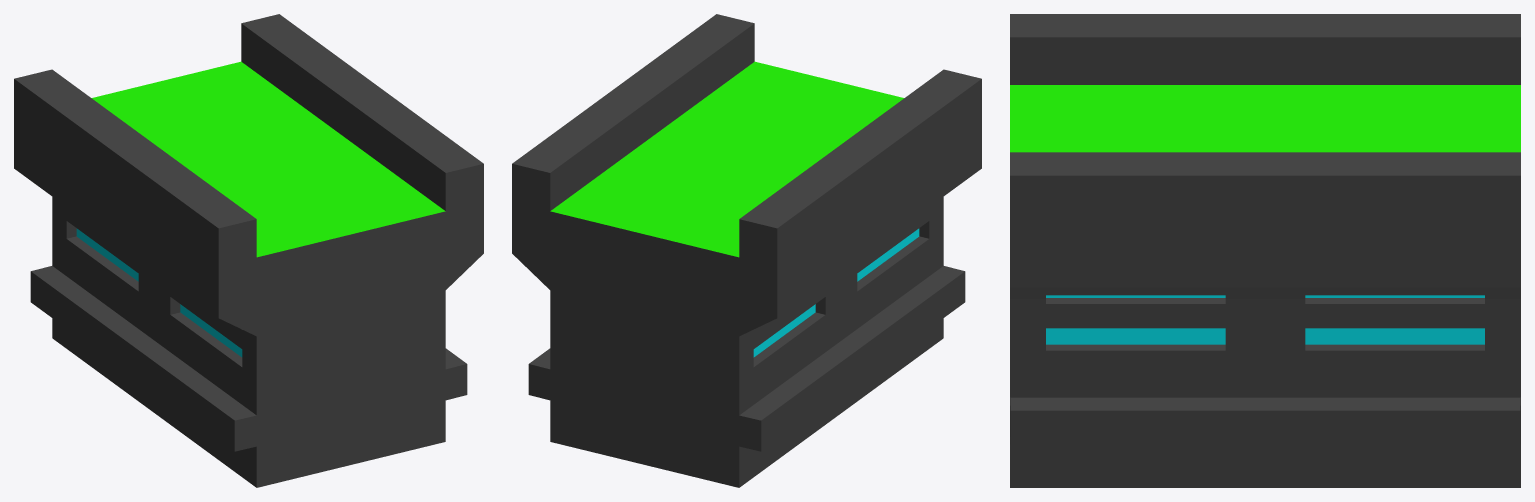
Rendered from Bridge I.fbx.
The picture shows the model from 3 angles, left to right: view 1: azimuth 30°, elevation 25°; view 2: azimuth 150°, elevation 25°; view 3: azimuth 270°, elevation 25°; orthographic projection. The views are drawn at different scales.
Parts seen in each view (by area): view 1: Bridge I; view 2: Bridge I; view 3: Bridge I.
Part boxes in pixels (x1,y1,x2,y2): Bridge I: (14, 14, 483, 487); Bridge I: (512, 14, 981, 487); Bridge I: (1010, 14, 1520, 487).
Bounding box in the file's own units: 150 × 145 × 200.
